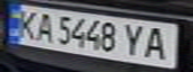4: (84, 17, 103, 51), (69, 16, 87, 48)
5: (54, 13, 75, 46)
8: (100, 19, 121, 54)
A: (139, 25, 175, 61), (30, 10, 57, 43)
K: (12, 7, 42, 40)
Y: (121, 21, 151, 57)
